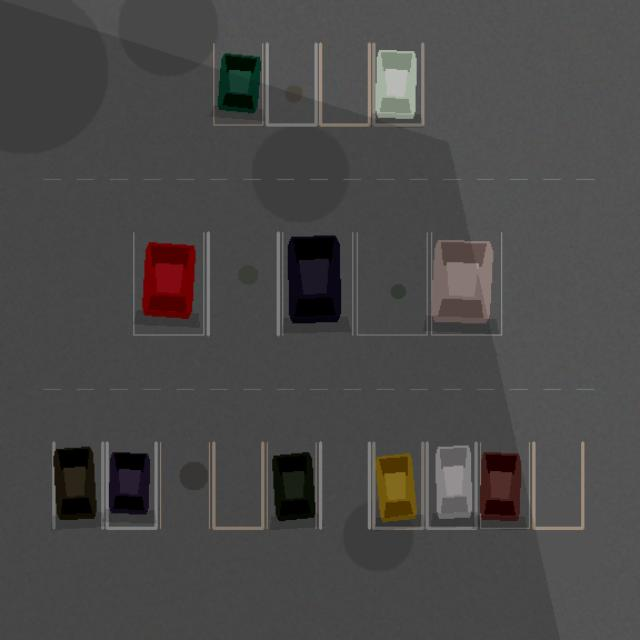space-empty: (208, 232, 278, 334), (357, 232, 427, 334), (160, 442, 209, 528), (213, 442, 262, 528), (320, 442, 369, 528), (533, 442, 582, 528), (267, 43, 316, 124), (320, 43, 369, 124)
space-occupied: (133, 232, 203, 334), (282, 232, 352, 334), (431, 232, 501, 334), (53, 442, 102, 528), (107, 442, 156, 528), (267, 442, 316, 528), (373, 442, 422, 528), (427, 442, 476, 528), (480, 442, 529, 528), (213, 43, 262, 124), (373, 43, 422, 124)
